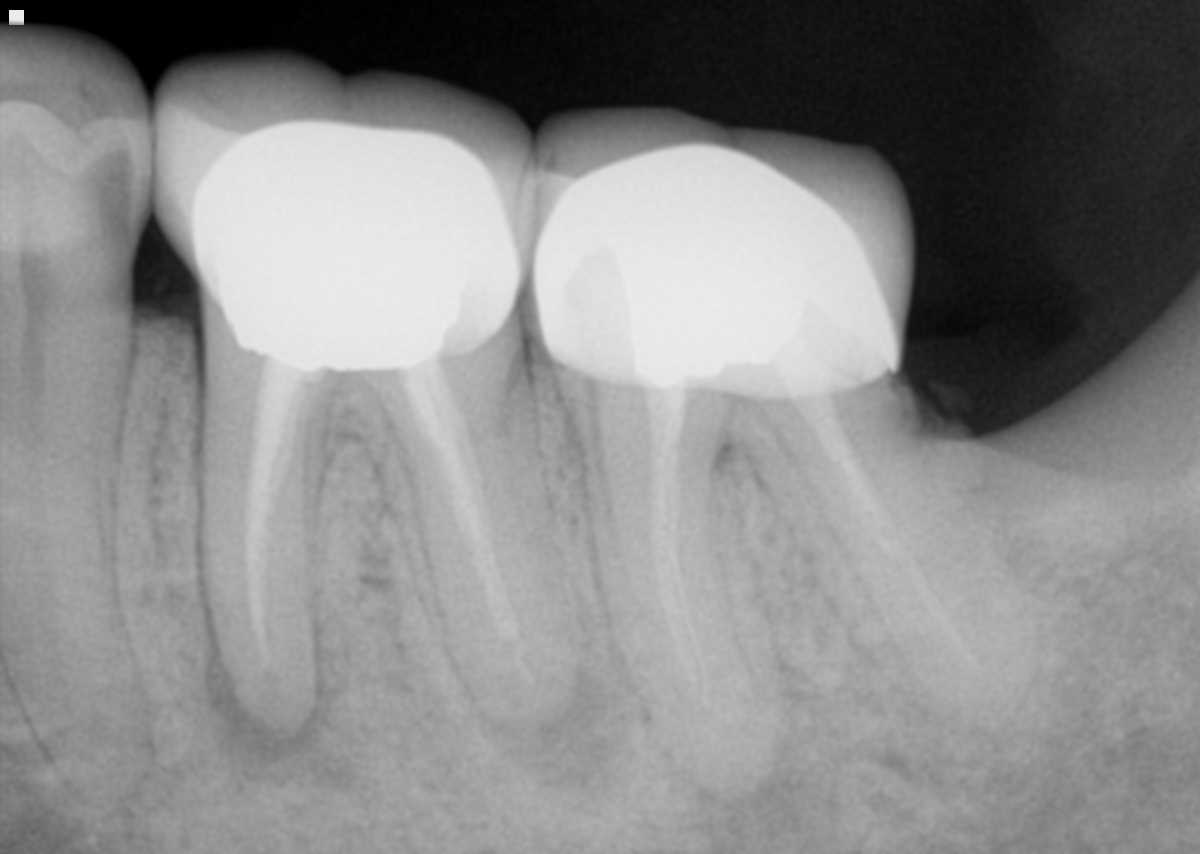Apical Lesion: (861, 544, 1136, 810), (696, 675, 858, 854), (485, 666, 643, 823), (207, 674, 354, 786)
Distal Root: (731, 385, 1039, 718), (349, 337, 573, 733)
Main Canal: (17, 312, 121, 767)
Main Root: (0, 301, 148, 804)
Mesial Root: (562, 376, 789, 800), (196, 342, 343, 733)
Root Canal Filling: (812, 417, 986, 669), (406, 371, 538, 683), (246, 361, 313, 674), (644, 391, 705, 713)
